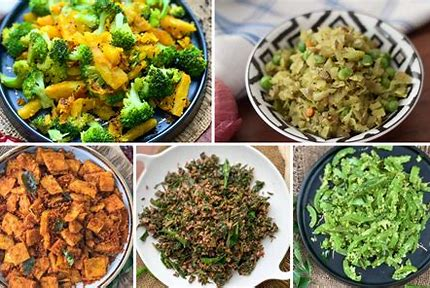inorganic: (21, 0, 183, 124), (149, 168, 275, 265), (7, 165, 104, 269), (326, 162, 422, 262), (274, 40, 379, 119)
organic: (2, 0, 205, 138), (232, 2, 422, 142), (138, 146, 286, 283), (1, 147, 129, 285), (296, 147, 427, 281)
